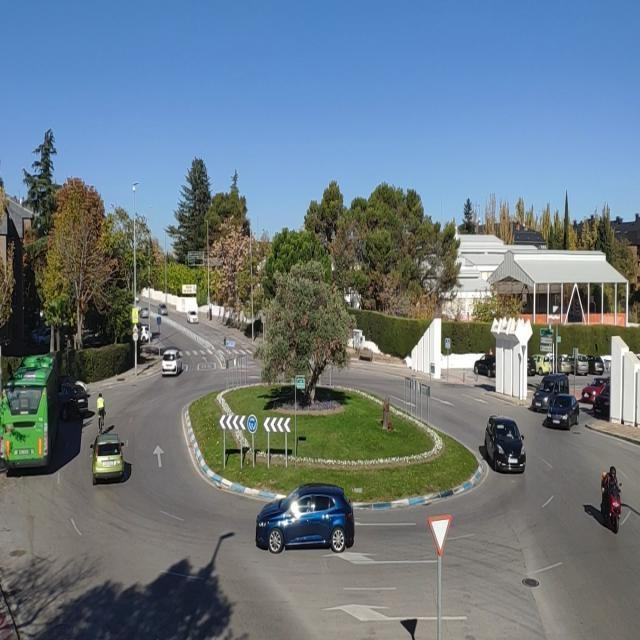Bus: (0, 350, 63, 471)
Car: (254, 484, 354, 554), (484, 415, 527, 474), (90, 432, 126, 482), (531, 374, 569, 412), (58, 381, 91, 420), (544, 393, 580, 428), (582, 376, 610, 403), (161, 349, 184, 376), (562, 354, 590, 376), (594, 383, 610, 418), (474, 354, 496, 377), (552, 354, 575, 375), (530, 354, 552, 375), (584, 356, 604, 376), (31, 326, 51, 346), (138, 324, 151, 343), (527, 357, 537, 376), (187, 310, 199, 324), (158, 304, 168, 316), (139, 308, 149, 318)
Cycle: (600, 476, 623, 534), (97, 406, 107, 434)
